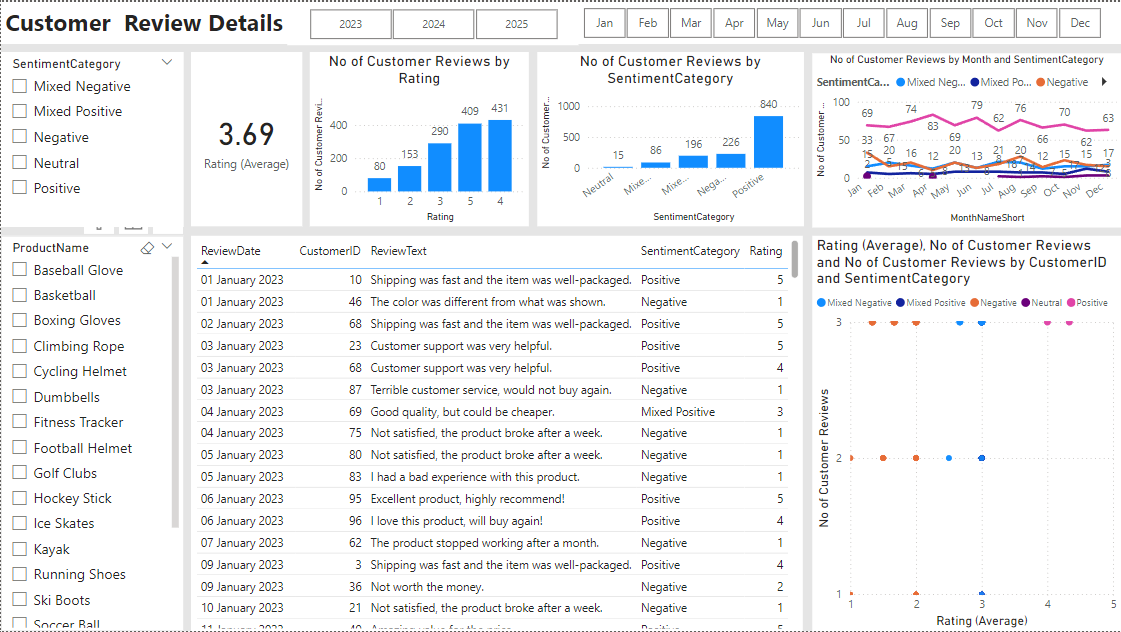

What the dashboard file says about the page in this screenshot:
{"tool":"powerbi","page":{"name":"Customer  Review Details","canvas":[1280,720],"ordinal":3},"visuals":[{"type":"textbox","box":[0,0,1280.3,47.7],"z":0},{"type":"slicer","fields":{"Values":["dim_products.ProductName"]},"box":[0,267.1,208.6,452.9],"z":1000},{"type":"actionButton","box":[0,0,100.3,40.4],"z":2000},{"type":"slicer","fields":{"Values":["Calendar.Year"]},"box":[327.7,1.2,332.6,47.7],"z":3000},{"type":"slicer","fields":{"Values":["Calendar.MonthNameShort"]},"box":[639.5,0,640.8,47.7],"z":4000},{"type":"card","fields":{"Values":["Calculations.Rating (Average)"]},"box":[217.7,57.5,127.2,199.3],"z":5000},{"type":"columnChart","fields":{"Y":["Calculations.No of Customer Reviews2"],"Category":["fact_customer_reviews_with_sentiment.Rating"]},"box":[353.4,57.5,250.7,199.3],"z":6000},{"type":"columnChart","fields":{"Y":["Calculations.No of Customer Reviews2"],"Category":["fact_customer_reviews_with_sentiment.SentimentCategory"]},"box":[612.6,57.5,304.5,199.3],"z":7000},{"type":"lineChart","title":"No of Customer Reviews by Month and SentimentCategory","fields":{"Y":["Calculations.No of Customer Reviews"],"Category":["Calendar.MonthNameShort"],"Series":["fact_customer_reviews_with_sentiment.SentimentCategory"]},"box":[926.9,58.7,353.4,199.3],"z":8000},{"type":"tableEx","fields":{"Values":["fact_customer_reviews_with_sentiment.ReviewDate","fact_customer_reviews_with_sentiment.CustomerID","fact_customer_reviews_with_sentiment.ReviewText","fact_customer_reviews_with_sentiment.SentimentCategory","fact_customer_reviews_with_sentiment.Rating"]},"box":[217.7,266.6,699.5,453.7],"z":9000},{"type":"scatterChart","fields":{"X":["Calculations.Rating (Average)"],"Y":["Calculations.No of Customer Reviews"],"Category":["dim_customer.CustomerID"],"Series":["fact_customer_reviews_with_sentiment.SentimentCategory"],"Size":["Calculations.No of Customer Reviews"]},"box":[927,267,353,453],"z":10000},{"type":"slicer","fields":{"Values":["fact_customer_reviews_with_sentiment.SentimentCategory"]},"box":[0,57.1,208.6,200],"z":11000}]}

Visuals, with their boxes in screenshot pixels (x1, y1, x2, y2), scaled from the page's 1280x720 canvas onto the 1121x632 screenshot:
textbox: x1=0, y1=0, x2=1120, y2=42
slicer - dim_products.ProductName: x1=0, y1=234, x2=183, y2=631
actionButton: x1=0, y1=0, x2=88, y2=35
slicer - Calendar.Year: x1=287, y1=1, x2=578, y2=43
slicer - Calendar.MonthNameShort: x1=560, y1=0, x2=1120, y2=42
card - Calculations.Rating (Average): x1=191, y1=50, x2=302, y2=225
columnChart - Calculations.No of Customer Reviews2 x fact_customer_reviews_with_sentiment.Rating: x1=310, y1=50, x2=529, y2=225
columnChart - Calculations.No of Customer Reviews2 x fact_customer_reviews_with_sentiment.SentimentCategory: x1=537, y1=50, x2=803, y2=225
"No of Customer Reviews by Month and SentimentCategory" lineChart: x1=812, y1=52, x2=1120, y2=226
tableEx - fact_customer_reviews_with_sentiment.ReviewDate x fact_customer_reviews_with_sentiment.CustomerID: x1=191, y1=234, x2=803, y2=631
scatterChart - Calculations.Rating (Average) x Calculations.No of Customer Reviews: x1=812, y1=234, x2=1120, y2=631
slicer - fact_customer_reviews_with_sentiment.SentimentCategory: x1=0, y1=50, x2=183, y2=226
